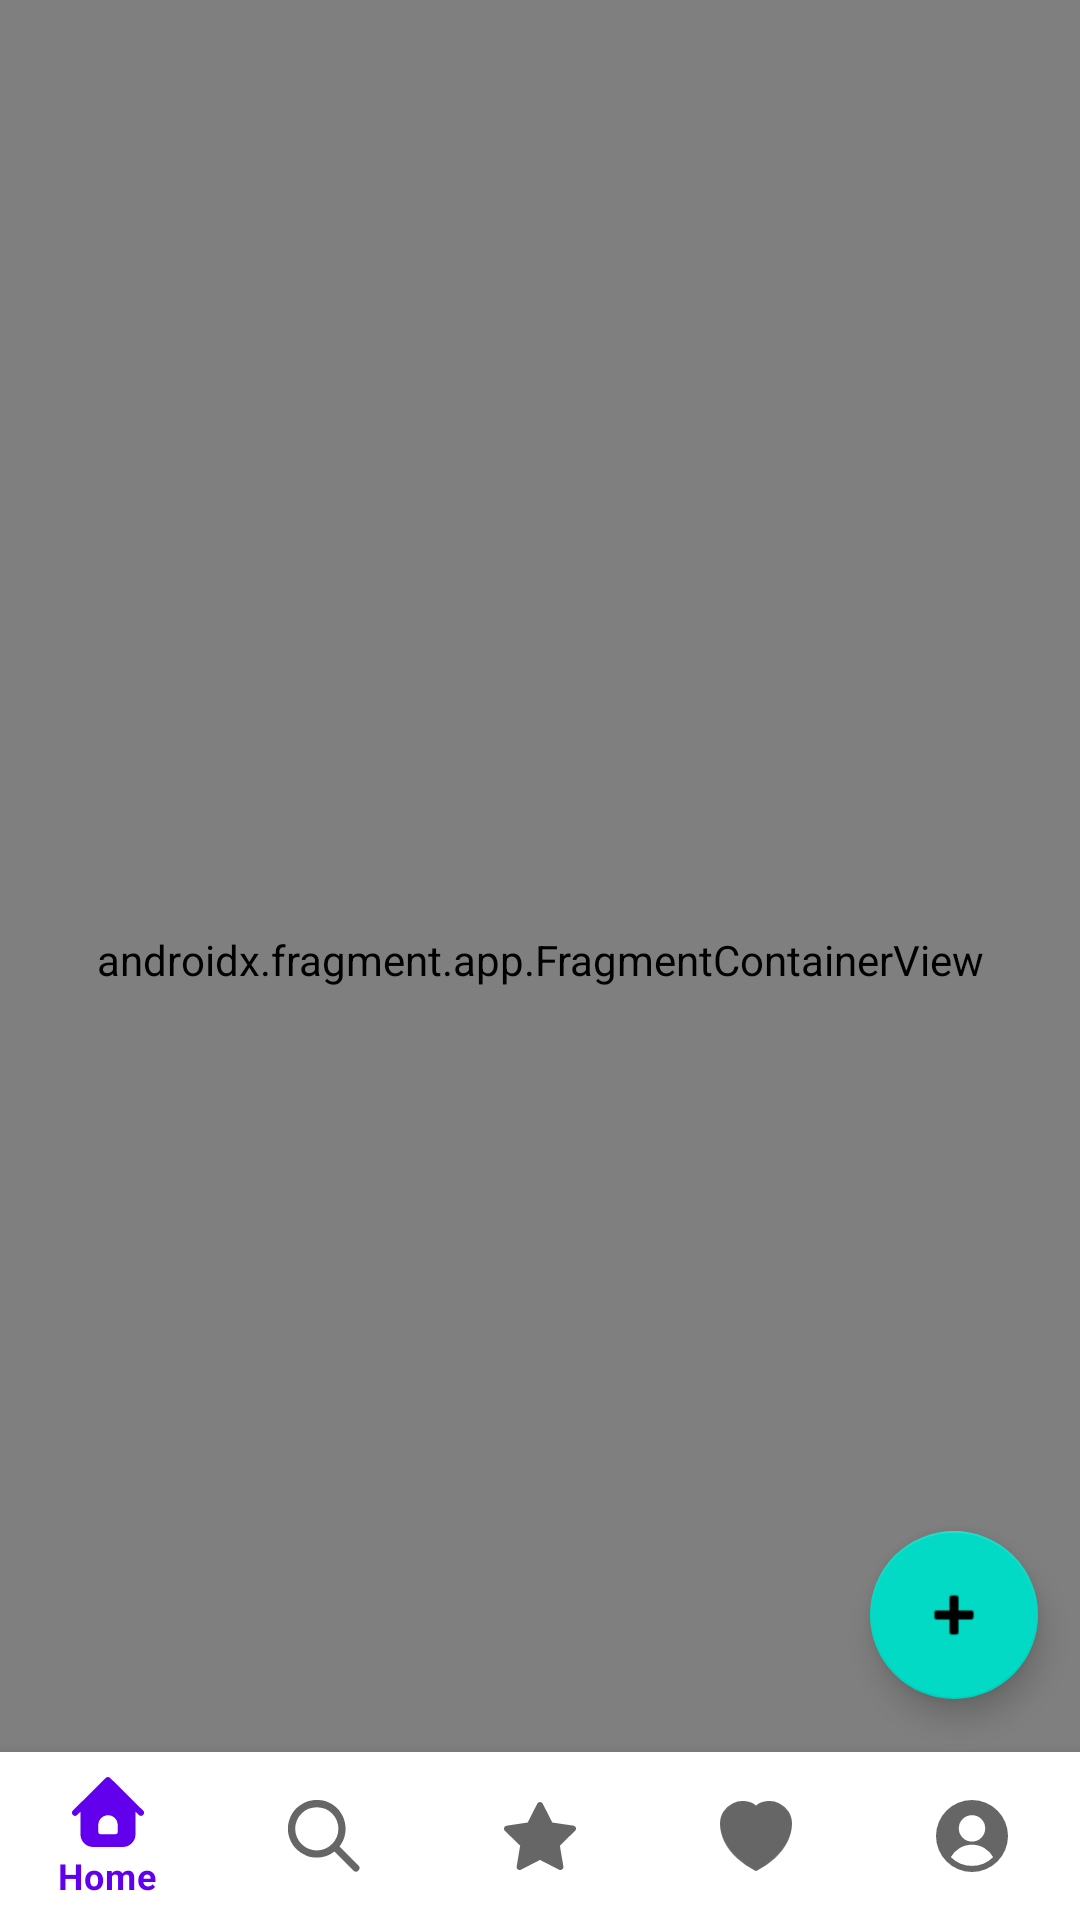

Named icons in this screenshot (1080 × 1920) and their bounding boxes, (x1, y1, x2, y2):
add: (870, 1531, 1038, 1699)
